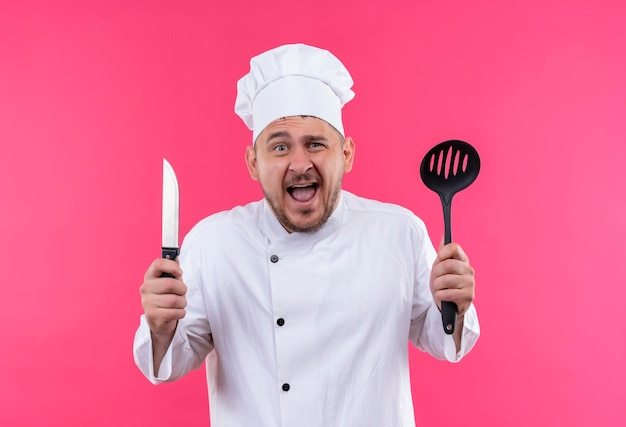knife: (159, 156, 183, 263)
